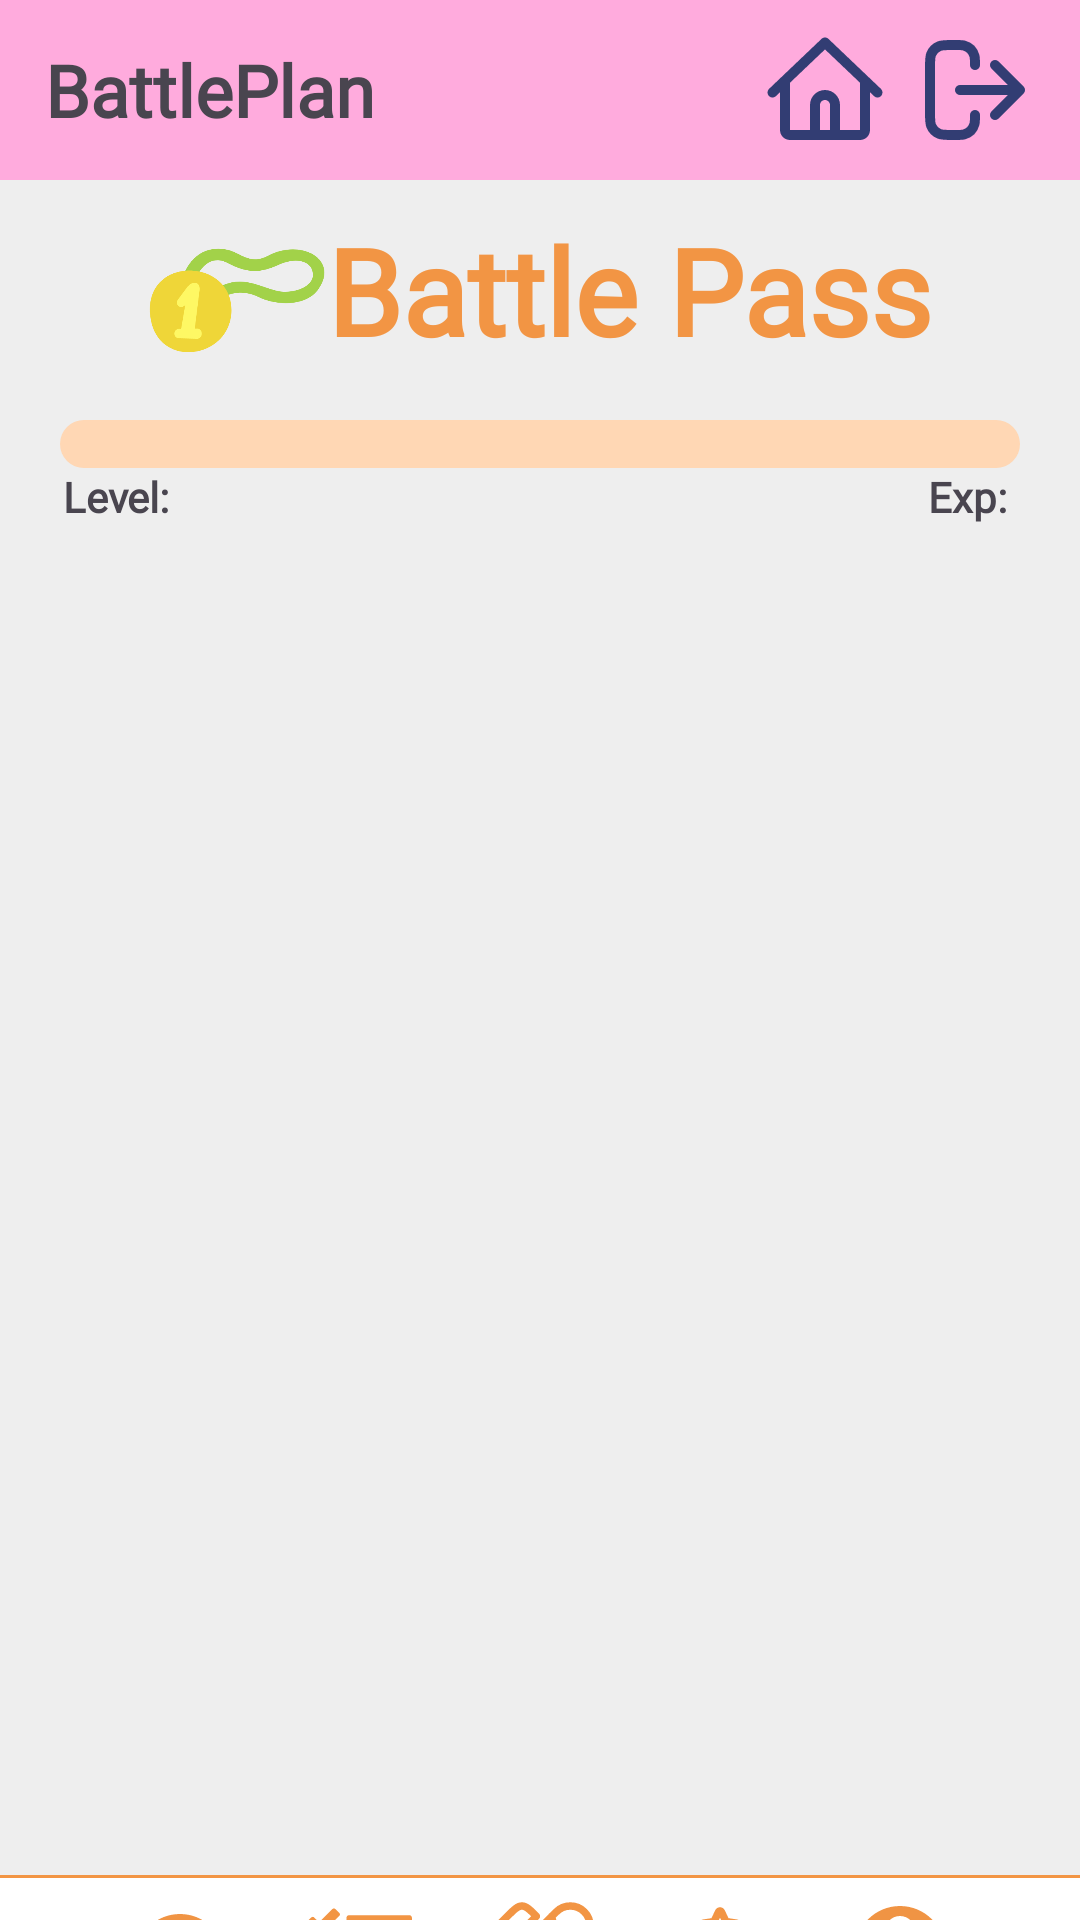

Locate icon controls on the screen. Image size 1080px×1920px, boxes as box=[x1, y1, x2, y2].
home: box=[767, 37, 883, 140]
log out: box=[925, 40, 1025, 140]
